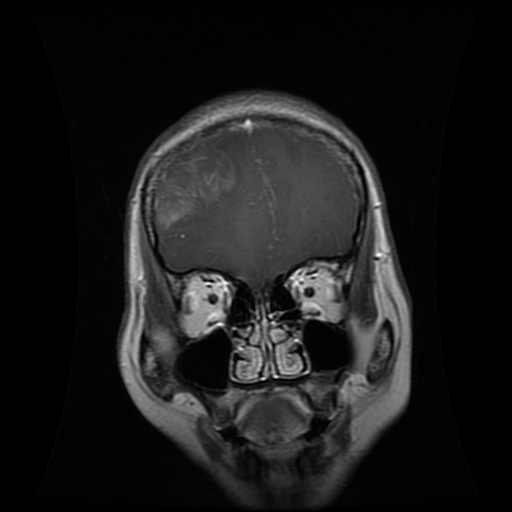glioma: (153, 136, 240, 231)
